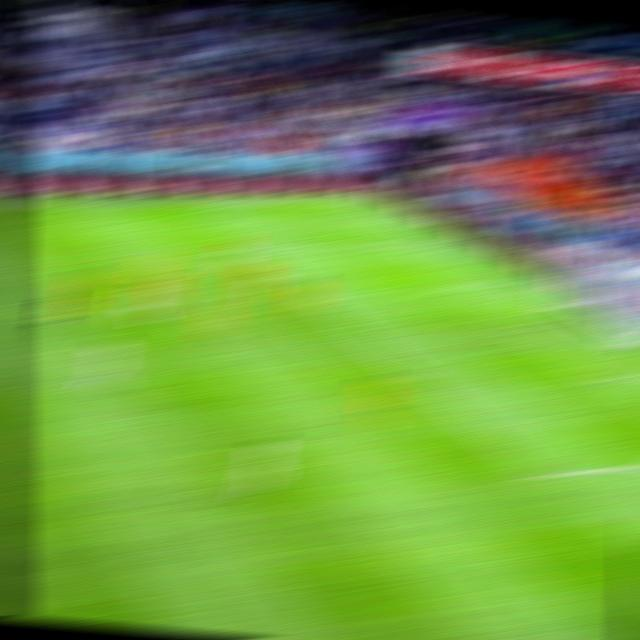bigarea_bottom_inner: (525, 464, 562, 486)
bigarea_top_inner: (237, 240, 268, 254)
bigarea_top_outter: (422, 234, 454, 250)
bottom_arc_area_intersection: (399, 366, 434, 384)
corner: (348, 195, 382, 207)
smallarea_bottom_inner: (582, 367, 619, 387)
smallarea_top_inner: (434, 277, 468, 294)
smallarea_top_outter: (494, 274, 527, 290)
top_arc_area_intersection: (302, 291, 333, 307)
